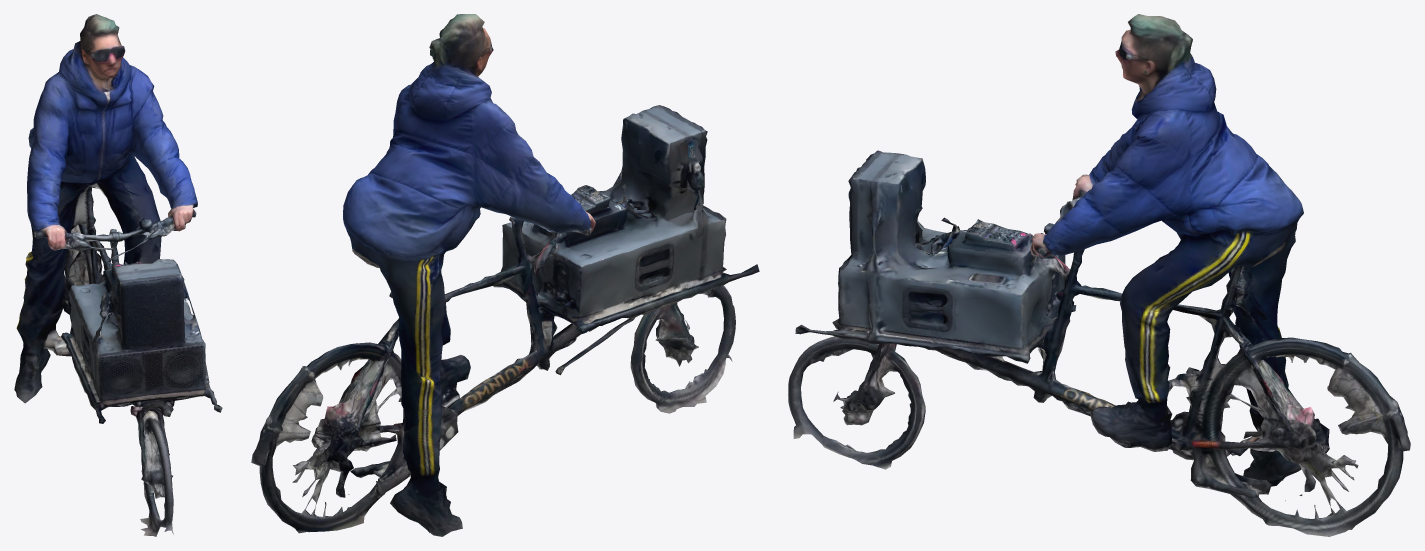
Rendered from soundbike.glb.
The picture shows the model from 3 angles, left to right: view 1: azimuth 30°, elevation 25°; view 2: azimuth 150°, elevation 25°; view 3: azimuth 270°, elevation 25°; orthographic projection. The views are drawn at different scales.
Parts seen in each view (by area): view 1: model; view 2: model; view 3: model.
Part boxes in pixels (x1=…): model: x1=14, y1=14, x2=222, y2=536; model: x1=251, y1=14, x2=759, y2=536; model: x1=788, y1=14, x2=1410, y2=536.
Bounding box in the file's own units: 1.01 × 1.89 × 2.19.
Materials: 1 (1 with a texture image).
